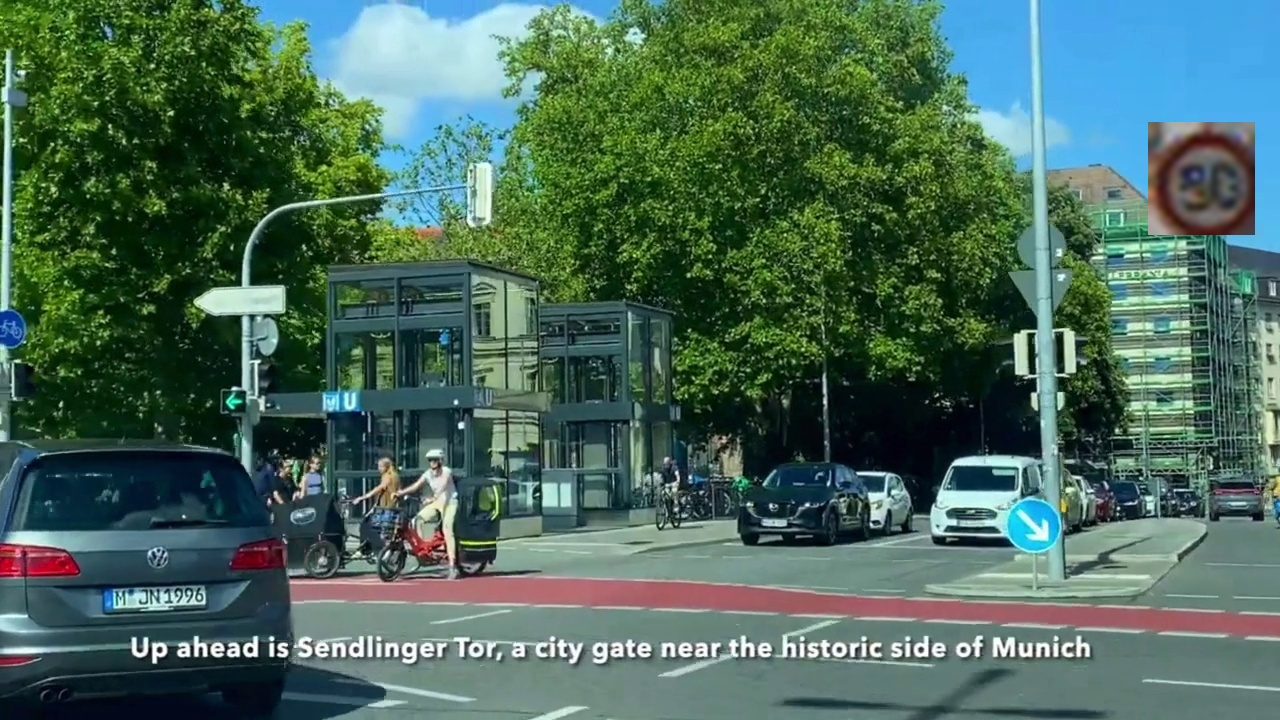Speed 50: (1148, 122, 1255, 235)
